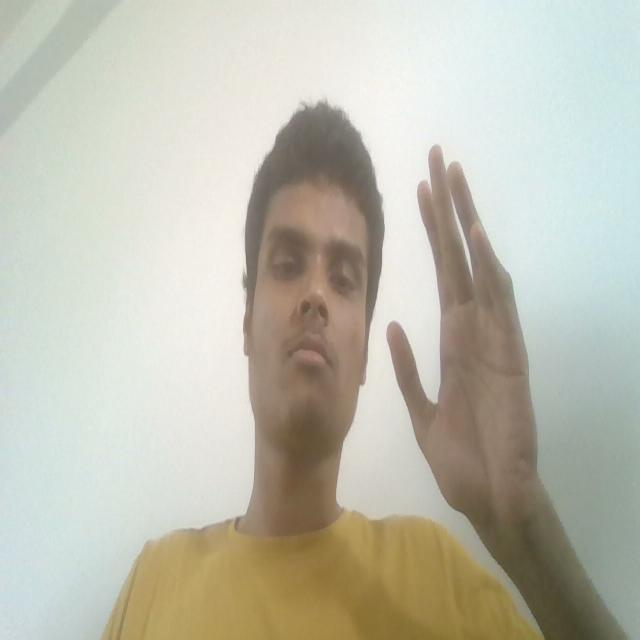Hello: (380, 118, 548, 576)
